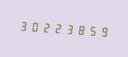eight: (72, 20, 82, 38)
five: (83, 21, 93, 39)
nine: (94, 22, 104, 39)
three: (17, 16, 27, 34), (61, 19, 71, 37)
two: (39, 18, 49, 35), (50, 19, 60, 36)
zero: (28, 17, 38, 35)
